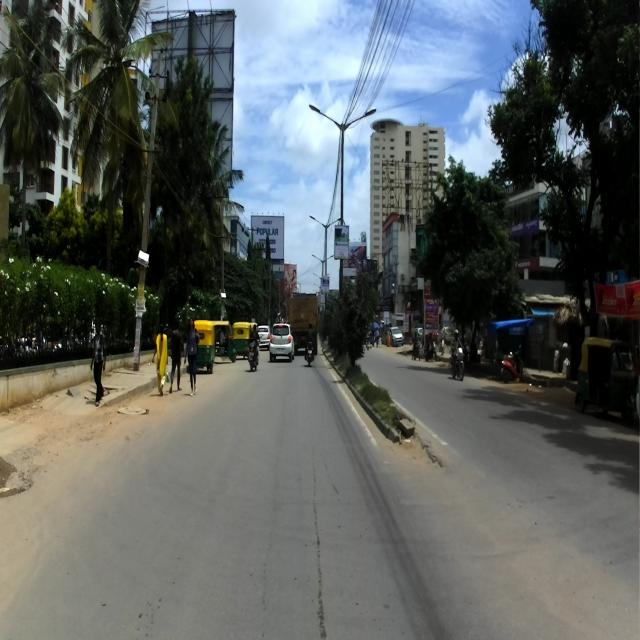Car_Maruti-Suzuki: (270, 318, 294, 362)
autorickshaw: (574, 338, 639, 428)
